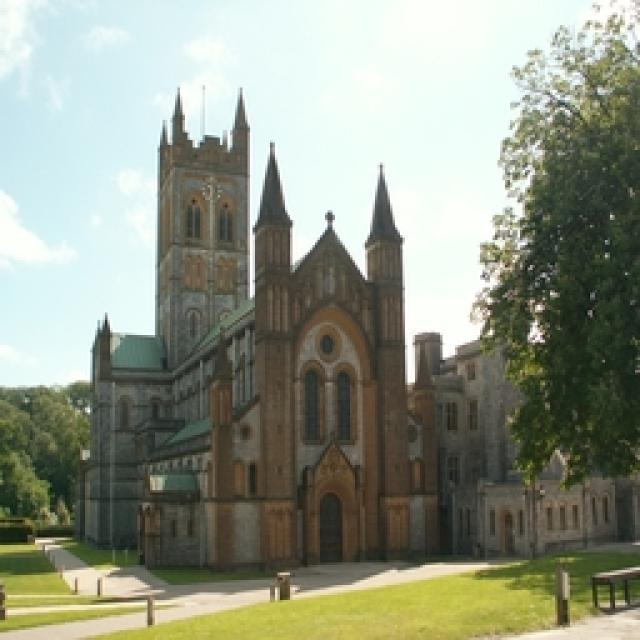Abbey: (76, 79, 446, 571)
